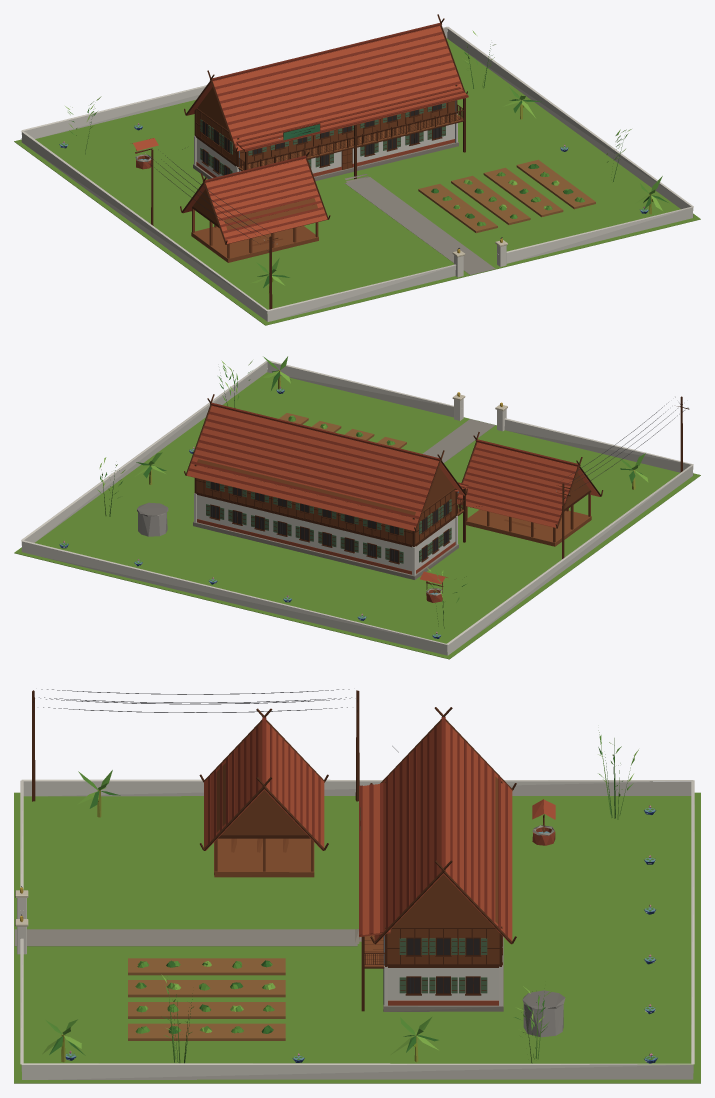
The model's file is hospital.glb.
3 renders of one model, top to bottom at view 1: azimuth 30°, elevation 25°; view 2: azimuth 150°, elevation 25°; view 3: azimuth 270°, elevation 25°, orthographic. The views are drawn at different scales.
Parts seen in each view (by area): view 1: body, windows; view 2: body, windows; view 3: body, windows.
Part boxes in pixels (x1,y1,x2,y2): body: (14, 14, 700, 325); windows: (203, 104, 502, 253); body: (14, 356, 700, 659); windows: (210, 392, 502, 562); body: (14, 689, 700, 1083); windows: (20, 887, 479, 993).
Size of the model in its own units: 47.9 by 11.98 by 47.9.
